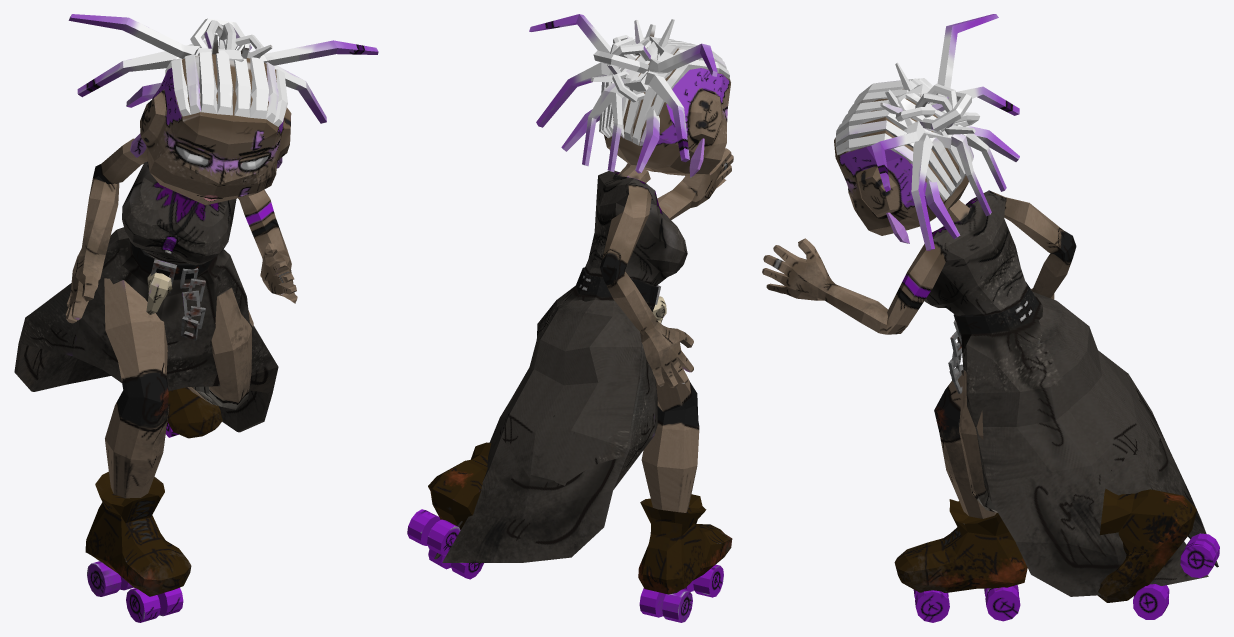
File: bruja_000009.obj
The picture shows the model from 3 angles, left to right: view 1: azimuth 30°, elevation 25°; view 2: azimuth 150°, elevation 25°; view 3: azimuth 270°, elevation 25°; orthographic projection. The views are drawn at different scales.
Visible parts, largest first — view 1: Bruja_Plane.001; view 2: Bruja_Plane.001; view 3: Bruja_Plane.001.
Part boxes in pixels (<box>): Bruja_Plane.001: <box>14,14,378,622</box>; Bruja_Plane.001: <box>407,14,733,622</box>; Bruja_Plane.001: <box>762,14,1219,622</box>.
Size of the model in its own units: 6.86 by 15.39 by 11.
